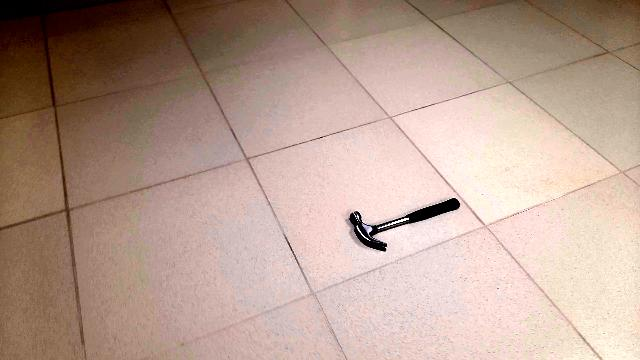hammer: (340, 200, 474, 250)
